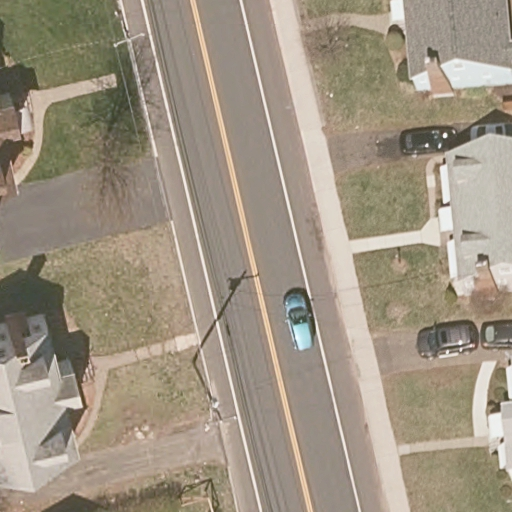DT: (191, 359, 238, 434), (111, 9, 146, 49)
